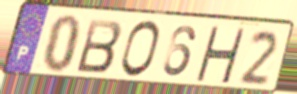0: (40, 13, 84, 75)
2: (238, 29, 280, 85)
6: (162, 25, 198, 80)
B: (74, 17, 125, 74)
H: (193, 24, 247, 85)
O: (118, 19, 162, 81)
